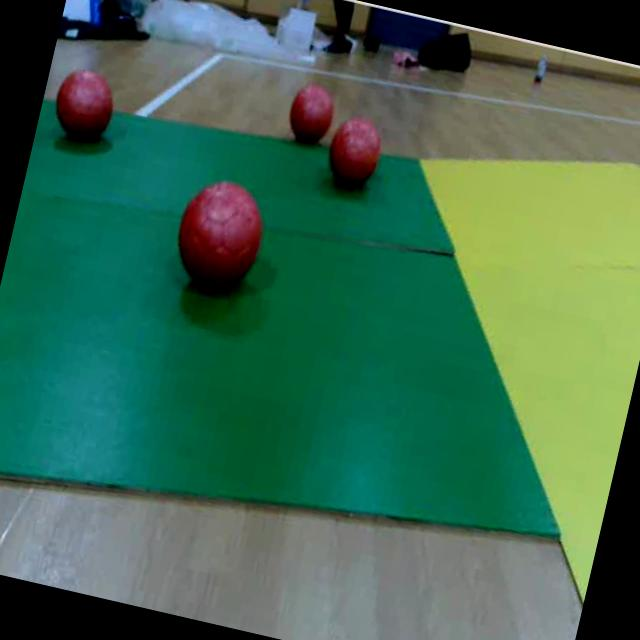red_ball: (168, 171, 273, 295), (44, 62, 123, 154), (320, 112, 384, 202), (282, 78, 342, 156)
